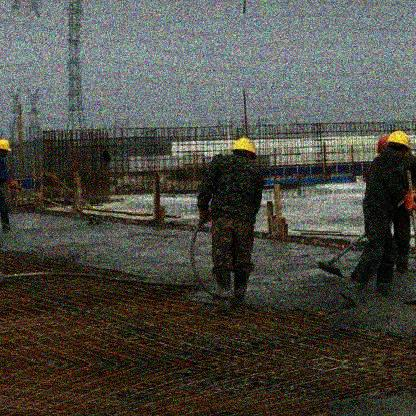helmet: (231, 137, 258, 163), (387, 131, 411, 156), (1, 139, 13, 161)
